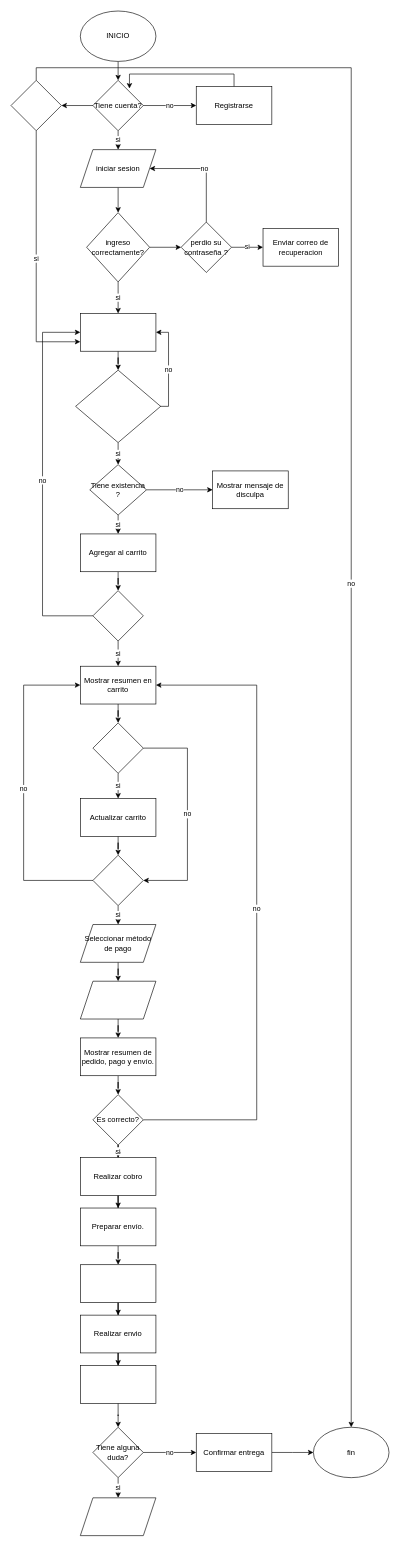
Image size: 400x1547. Some labels were removed from this diagram. The shapes that lost their labels are listed below. From the top down, each one's centre as x and y in pixels, then its label:
pixel 35 105: acceder sin registro?
pixel 118 332: mostrar catalogo
pixel 118 406: selecciono algún producto?
pixel 117 615: termino de ver ?
pixel 117 747: Actualizó datos del carrito ?
pixel 117 880: realizar compra ?
pixel 118 1000: Ingresar dirección de envio
pixel 118 1283: Comprobar pago
pixel 118 1384: Dar numero de guía de rastreo
pixel 118 1516: Ingrese su duda o aclaración
